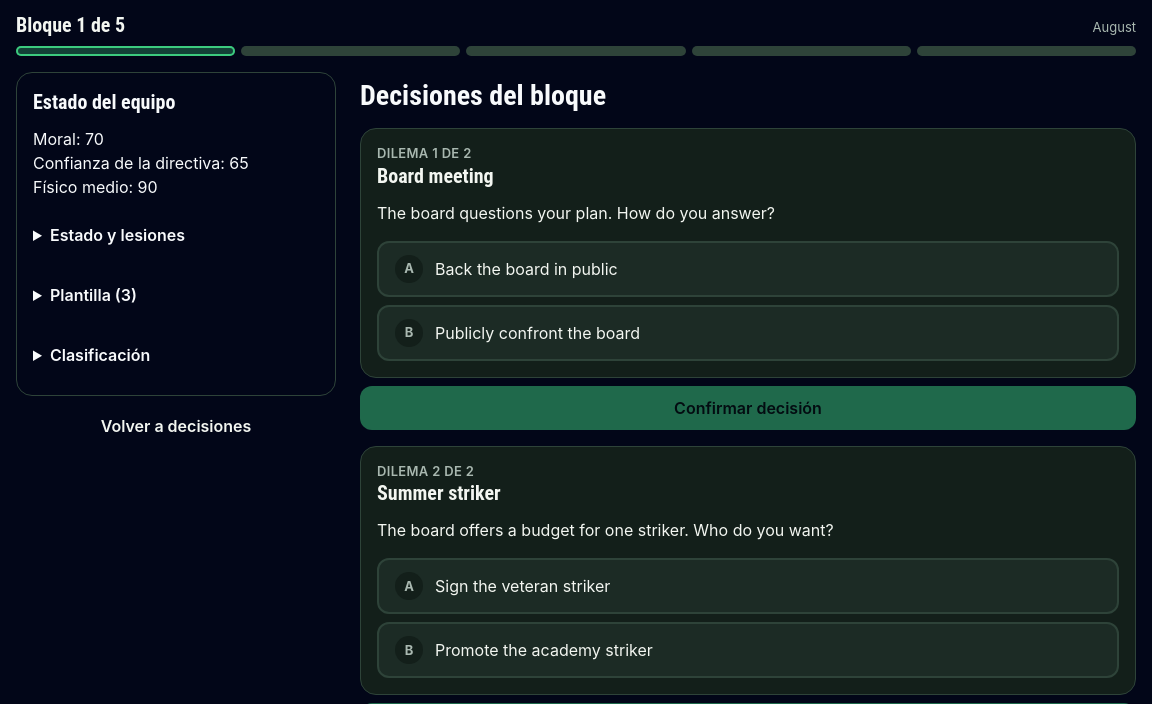
RunLoop › requires confirmation of every dilemma before simulation, even when all options are selected
This screenshot has width=1152, height=704.
Check: the heading "Board meeting" is shown, box [377,164,494,188]
Check: the button with aria-label "Confirmar: Board meeting" is disabled, box [360,386,1136,430]
Click the button "A Back the board in public" at (526, 269), box [377,241,1119,297]
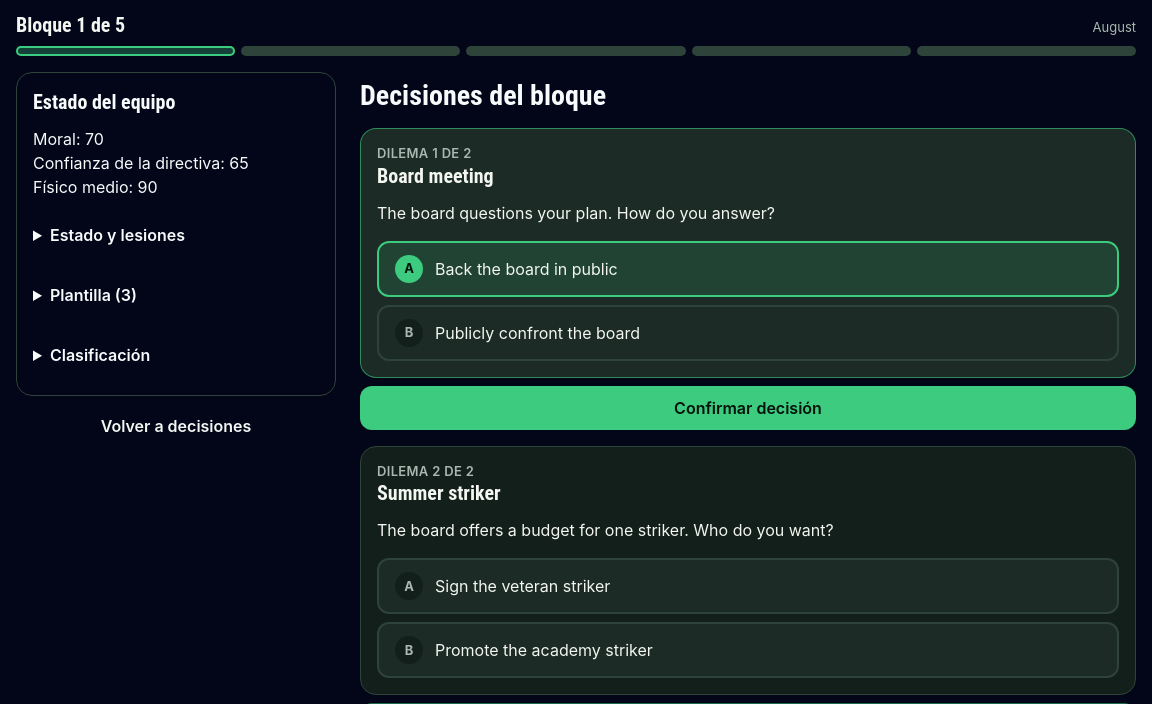
Click the button "A Sign the veteran striker" at (523, 586), box [377,558,1119,614]
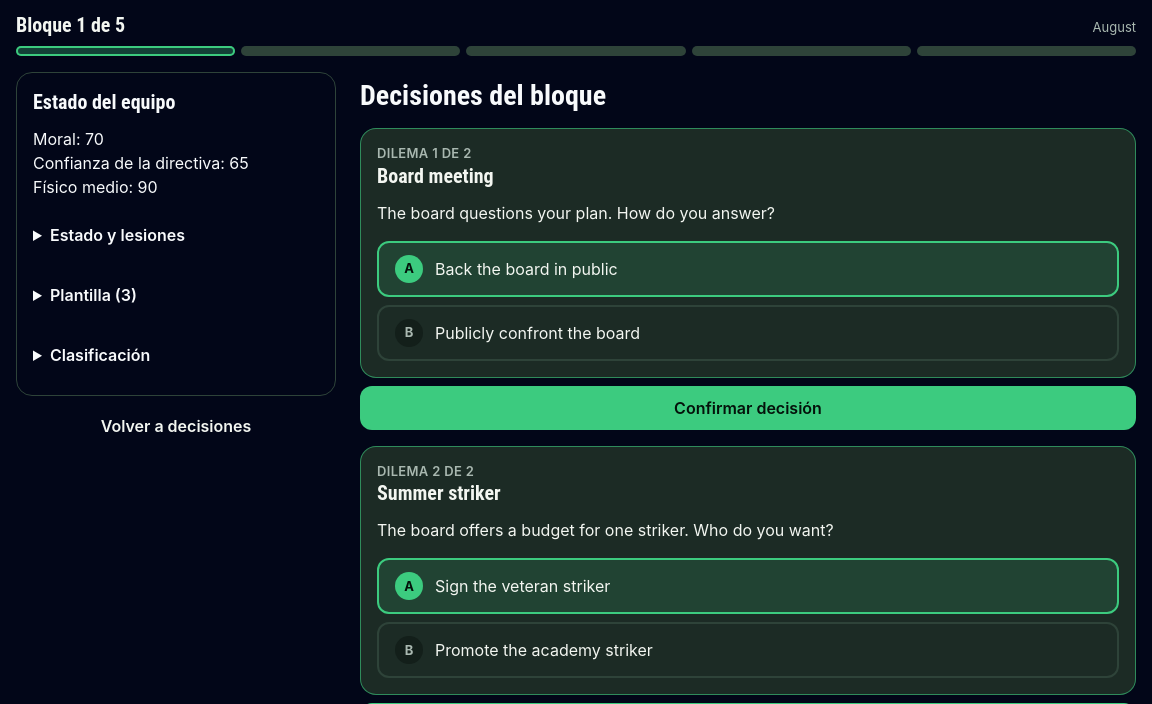
Click the button with aria-label "Confirmar: Board meeting" at (748, 408), box [360,386,1136,430]
(page scrolled)
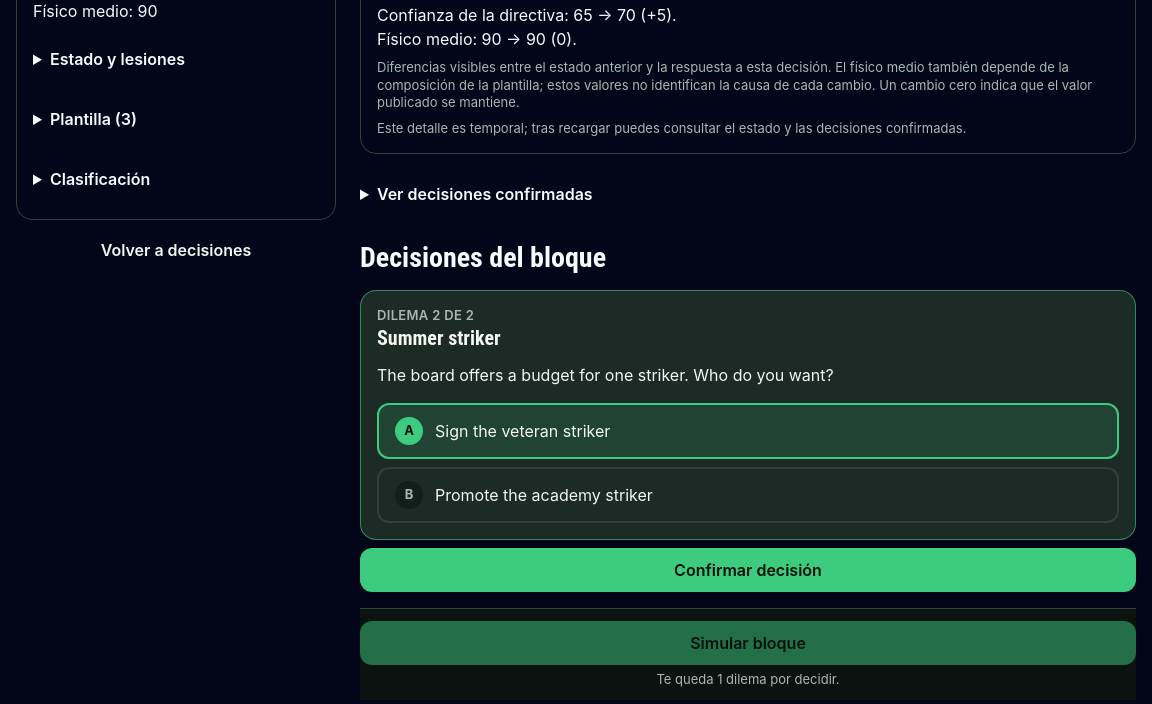
Check: the button "Simular bloque" is disabled, box [360,621,1136,665]
Click the button "Confirmar decisión" at (748, 570), box [360,548,1136,592]
(page scrolled)
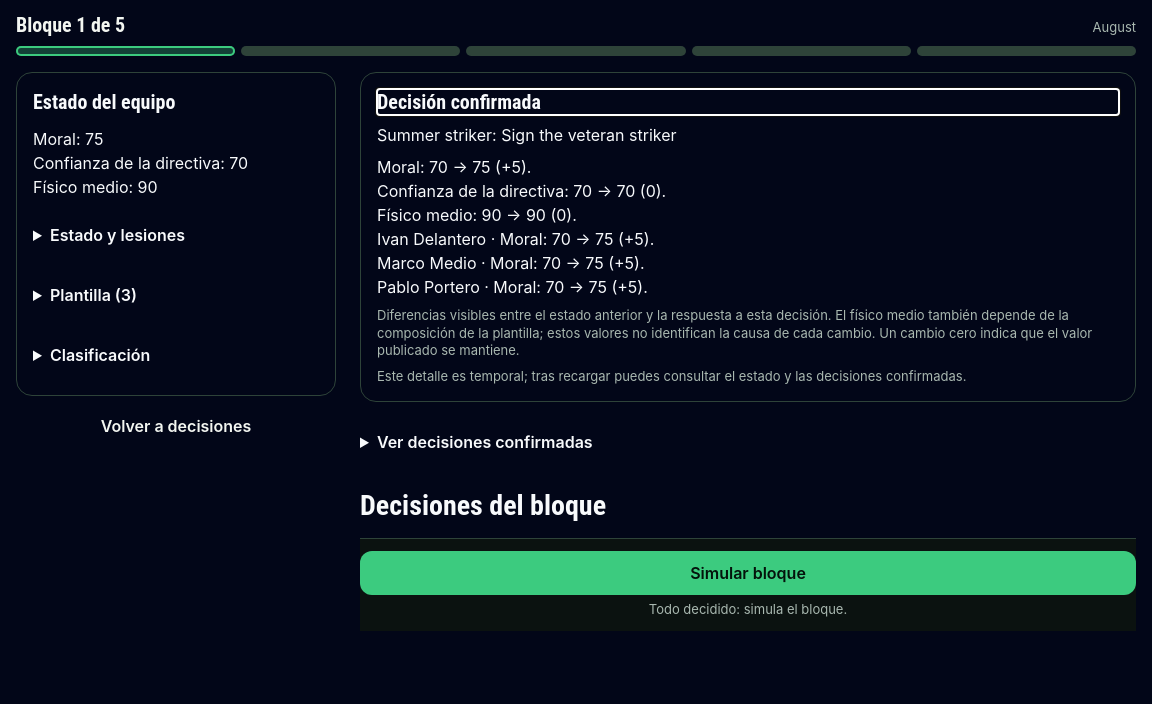
Check: the button "Simular bloque" is enabled, box [360,551,1136,595]
Check: the text "Todo decidido: simula el bloque." is shown, box [649,601,847,617]
